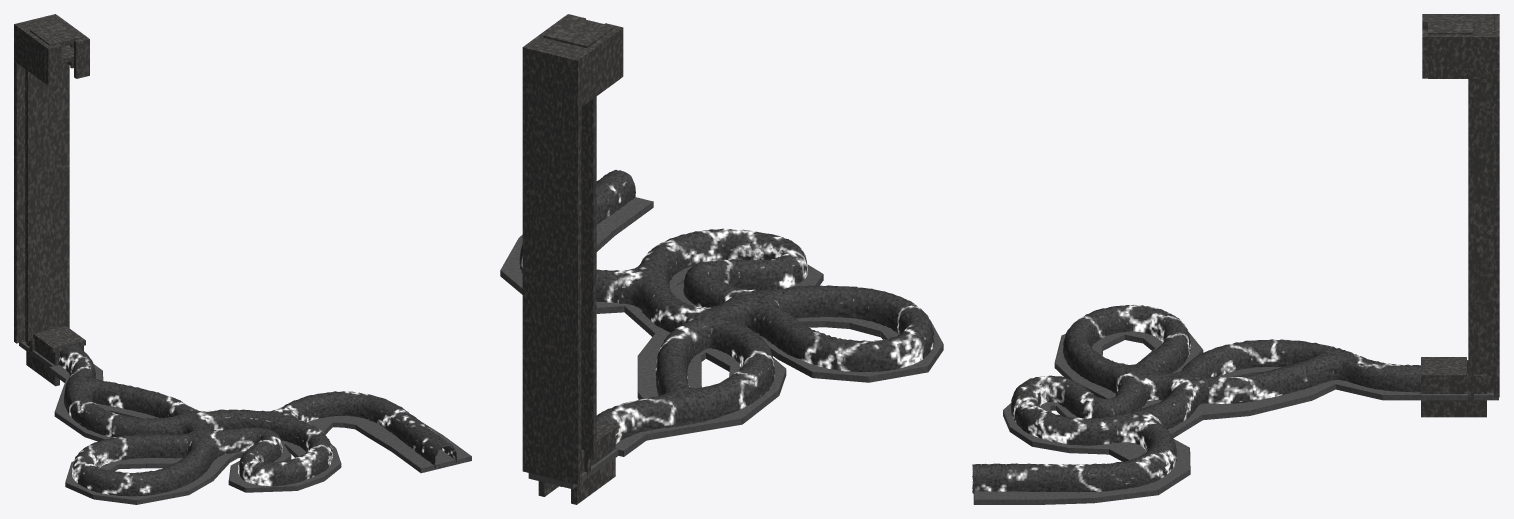
Rendered from newcaveandelevatorwalls.fbx.
3 renders of one model, left to right at view 1: azimuth 30°, elevation 25°; view 2: azimuth 150°, elevation 25°; view 3: azimuth 270°, elevation 25°, orthographic. The views are drawn at different scales.
Visible parts, largest first — view 1: NewCave, WallsNew, Cube.082; view 2: WallsNew, NewCave, Cube.082; view 3: NewCave, WallsNew, Cube.082.
Boxes of the visible parts, <box> form: NewCave: <box>59,344,456,496</box>; WallsNew: <box>14,14,89,386</box>; Cube.082: <box>49,364,471,504</box>; WallsNew: <box>522,14,623,504</box>; NewCave: <box>519,170,934,443</box>; Cube.082: <box>500,197,943,456</box>; NewCave: <box>972,305,1420,493</box>; WallsNew: <box>1421,14,1499,417</box>; Cube.082: <box>973,331,1420,504</box>.
Bounding box in the file's own units: 151 × 148 × 184.
